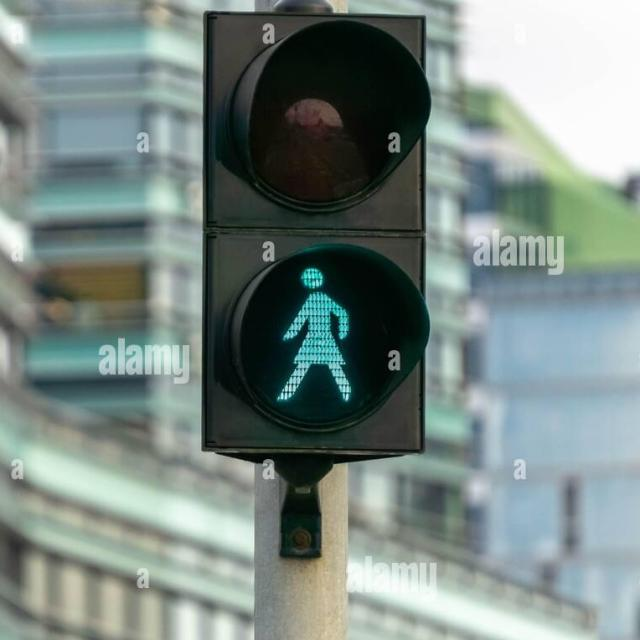green_light: (261, 257, 362, 401)
